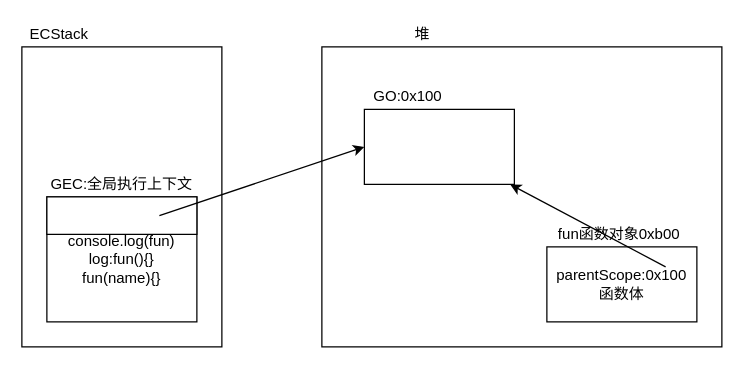
This 744x369 diagram has some shape labels left out. Each missing label, with the centre of its shape:
fun:0xb00: the point at 438,146
VO:0X100: the point at 121,215
